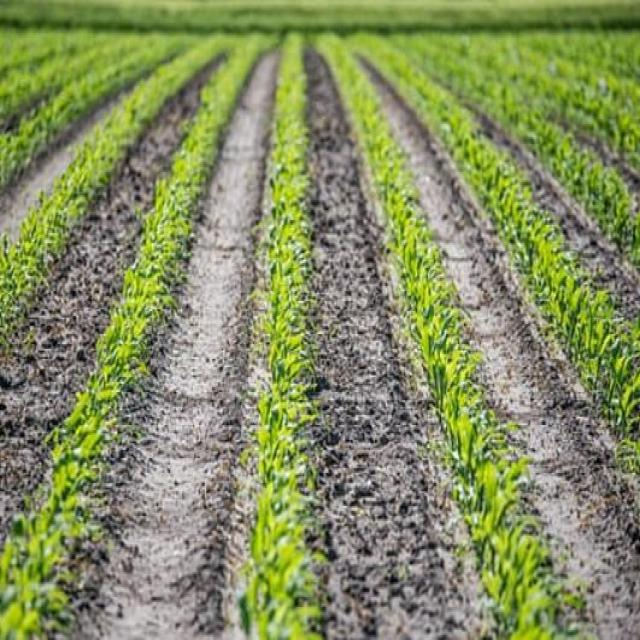row: (357, 50, 640, 640), (70, 49, 280, 638), (311, 51, 503, 640), (0, 53, 224, 556), (486, 117, 640, 356), (0, 62, 159, 250)
